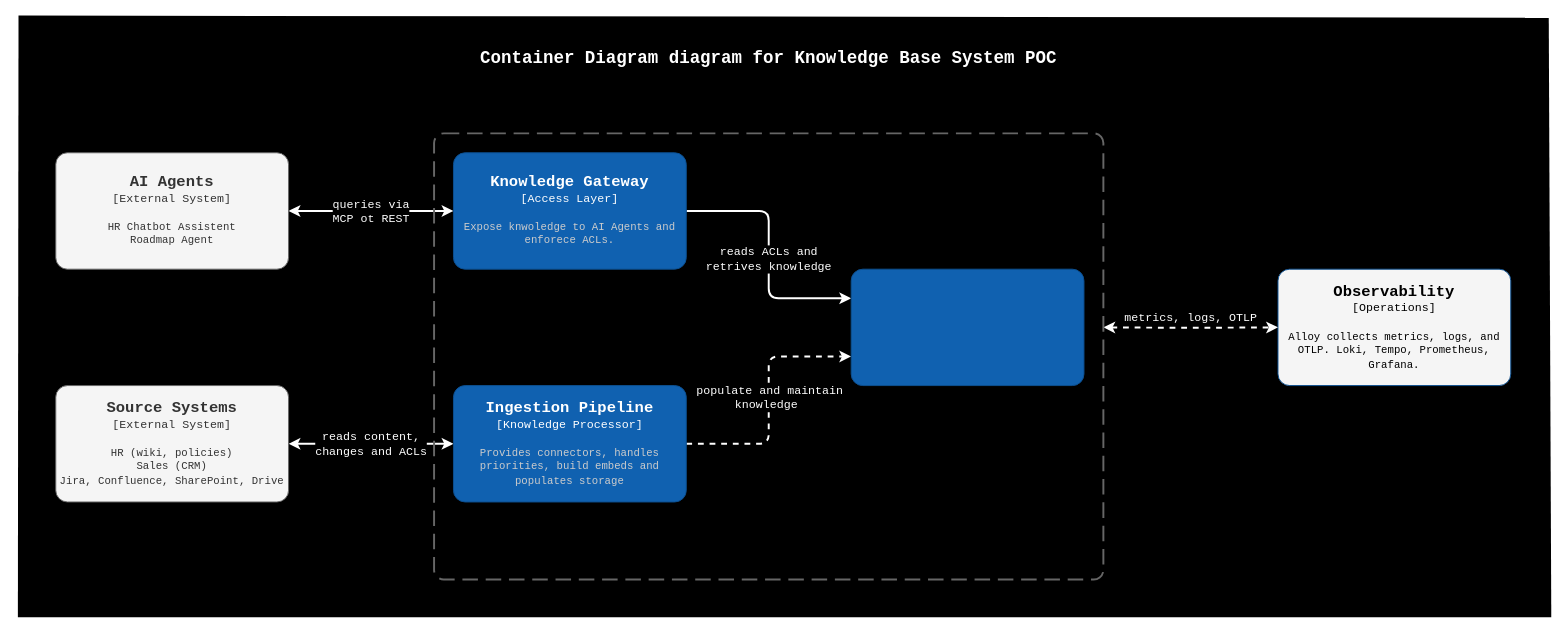
Image size: 1566x634. Some labels were removed from this diagram. Each missing label, with the box of its shape:
Knowledge Store [Storage Layer] Stores knowledge, ACL policies and metadata.: (850, 268, 1084, 386)
Knwoledge Base System [High Level Shape]: (433, 132, 1104, 580)
